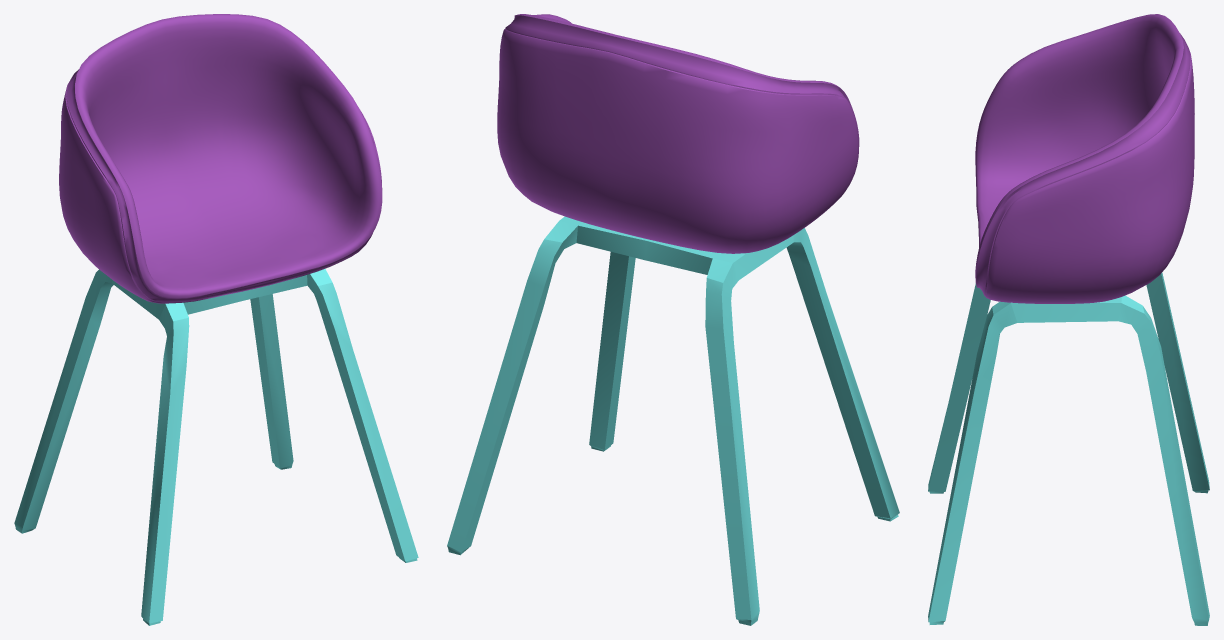
3 renders of one model, left to right at view 1: azimuth 30°, elevation 25°; view 2: azimuth 150°, elevation 25°; view 3: azimuth 270°, elevation 25°, orthographic. The views are drawn at different scales.
Visible parts, largest first — view 1: defaultMaterial.001, split_parent_0; view 2: defaultMaterial.001, split_parent_0; view 3: defaultMaterial.001, split_parent_0.
Boxes of the visible parts, x1,y1,x2,y2 form: defaultMaterial.001: [59, 14, 382, 303]; split_parent_0: [14, 269, 418, 625]; defaultMaterial.001: [497, 14, 859, 253]; split_parent_0: [447, 216, 899, 625]; defaultMaterial.001: [975, 14, 1194, 303]; split_parent_0: [928, 272, 1209, 625].
Size of the model in its own units: 0.5852 by 1 by 0.5011.
